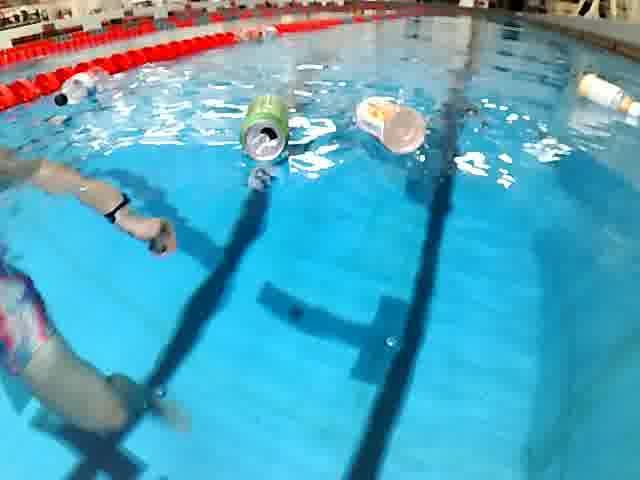Bottle: (350, 93, 430, 157), (570, 68, 640, 126), (47, 68, 109, 112)
Can: (238, 91, 294, 167)
